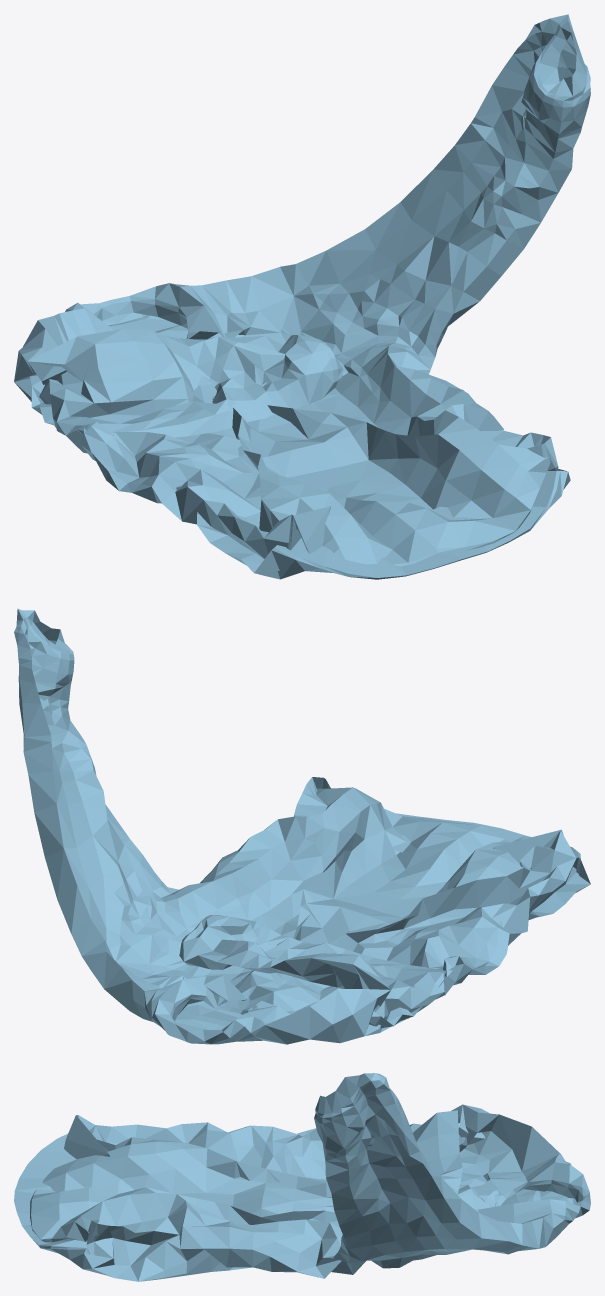
The model's file is frame_06.glb.
3 views of the same model, one above another, from view 1: azimuth 30°, elevation 25°; view 2: azimuth 150°, elevation 25°; view 3: azimuth 270°, elevation 25° (orthographic). The views are drawn at different scales.
Parts seen in each view (by area): view 1: frame_06.obj; view 2: frame_06.obj; view 3: frame_06.obj.
Part boxes in pixels (left/top/right/bottom): frame_06.obj: left=14, top=14, right=590, bottom=579; frame_06.obj: left=14, top=608, right=590, bottom=1044; frame_06.obj: left=14, top=1073, right=590, bottom=1281.
Bounding box in the file's own units: 1.36 × 0.8879 × 1.6.
